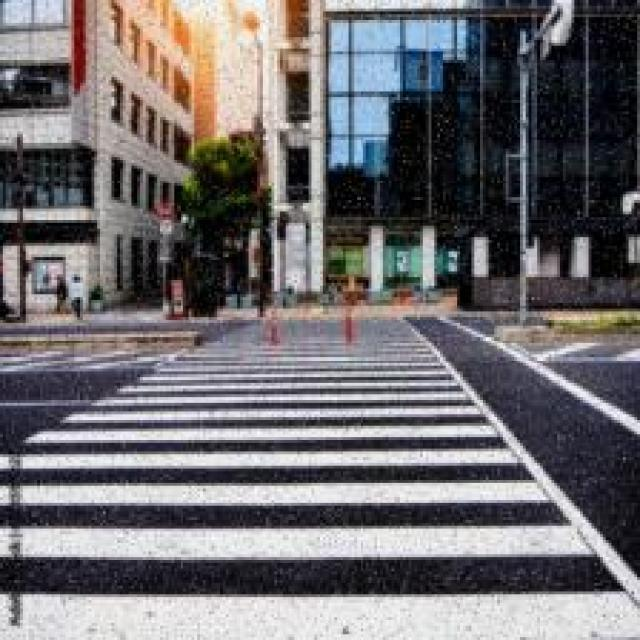crosswalk: (2, 311, 639, 639)
